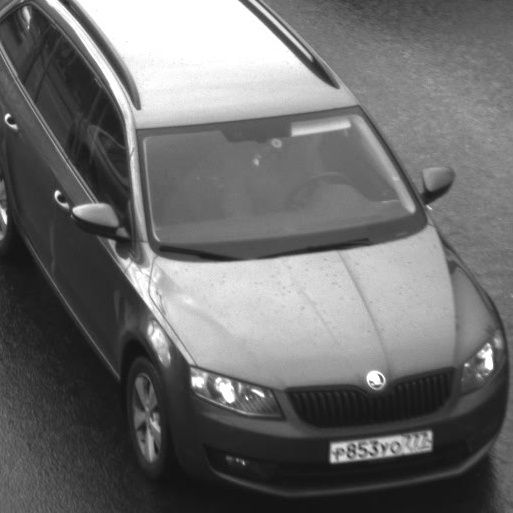plate: (317, 416, 441, 471)
